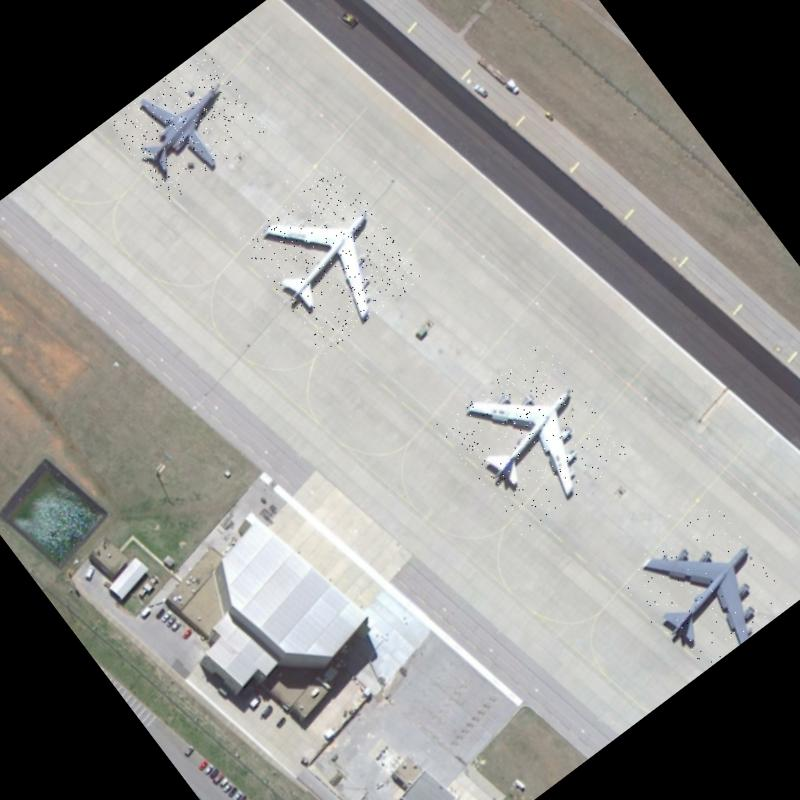A10: (107, 48, 267, 204)
A8: (434, 339, 631, 538), (237, 164, 425, 355), (616, 500, 793, 678)
